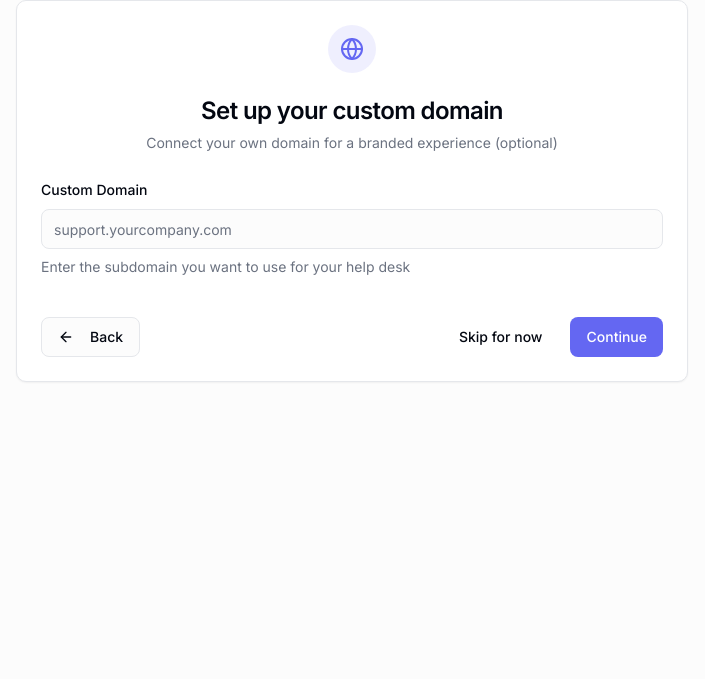
it: DomainVerificationStep › domain verification › shows success on verified domain
This screenshot has width=705, height=679.
In the field with placeholder "support.yourcompany.com": (352, 229) 41,209 -> 663,249, type "support.test.com"
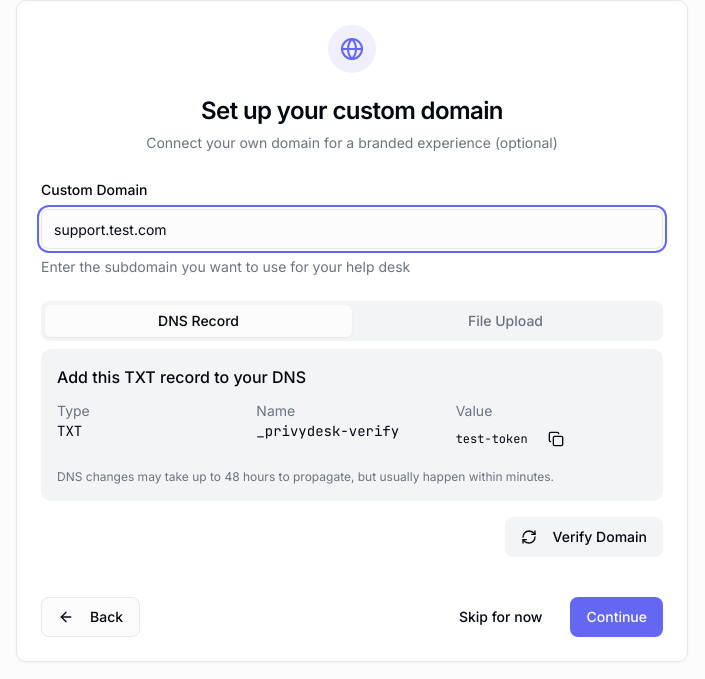
Click the button "Verify Domain": (584, 537) 505,517 -> 663,557
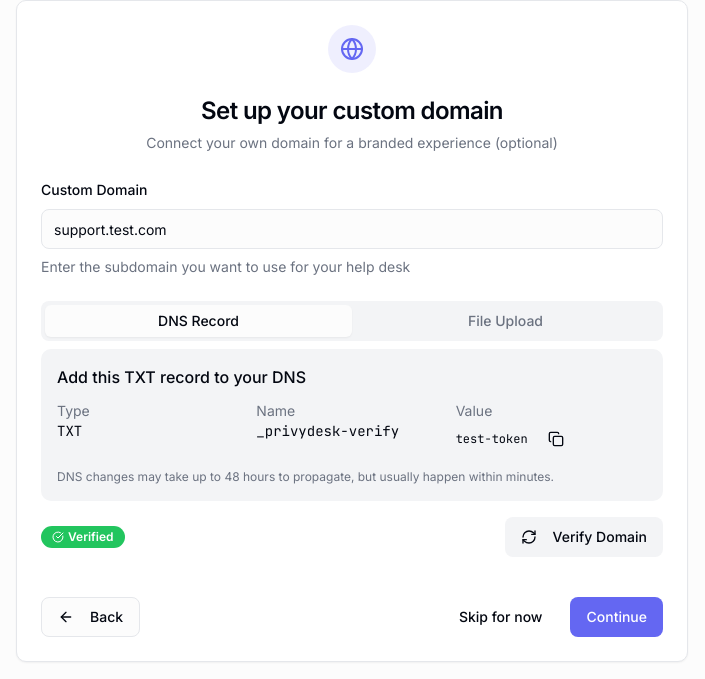
Expected: the text "Verified" is shown, 41,526 -> 125,548
